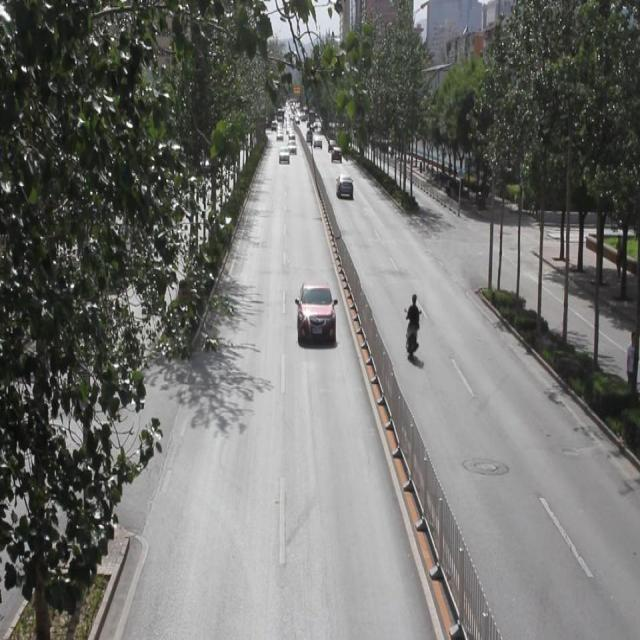car: (295, 280, 336, 344), (335, 172, 353, 198), (330, 146, 342, 163), (278, 146, 289, 162), (327, 137, 338, 151), (287, 140, 297, 153)
